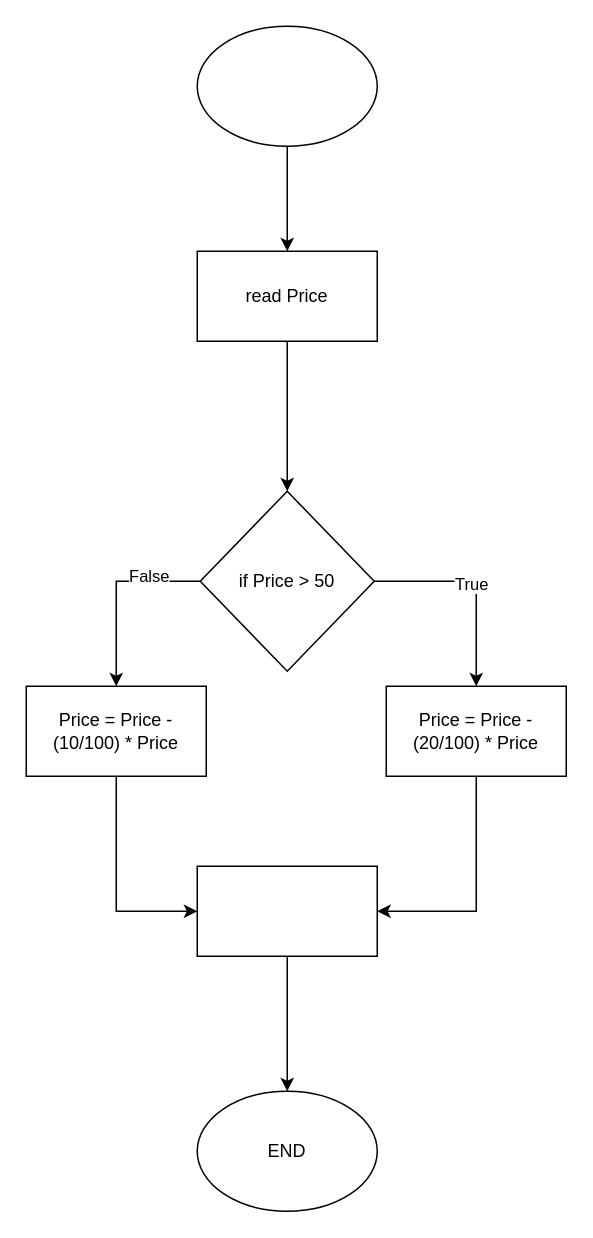
The diagram is 593 pixels wide and 1238 high, and some of its shapes have lost their labels. Each missing label, with the box of its shape:
Print Price: (196, 865, 377, 956)
START: (196, 25, 377, 146)
